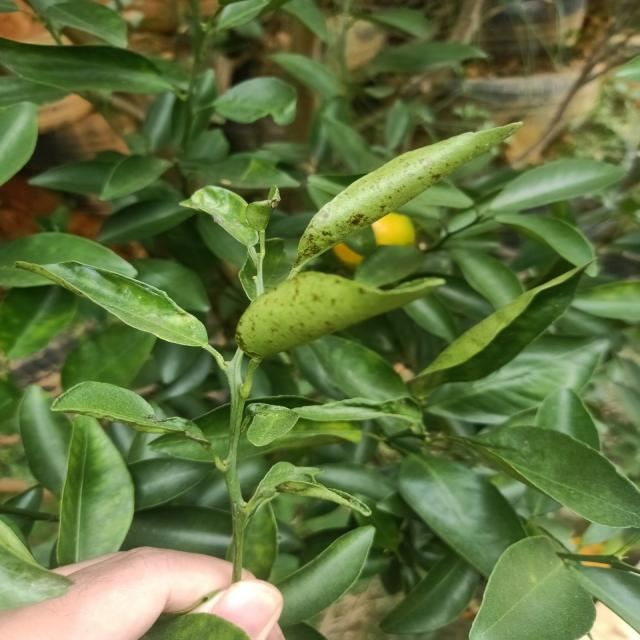melanose: (272, 119, 497, 256), (213, 264, 445, 353)
